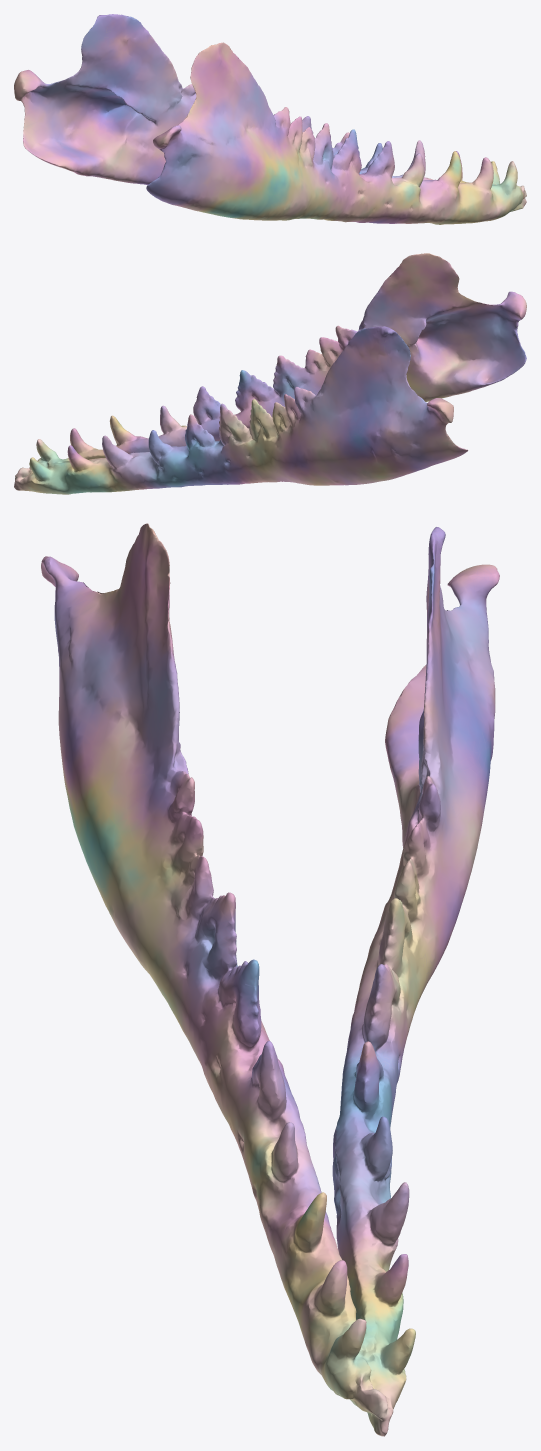
File: mandible.glb
The picture shows the model from 3 angles, top to bottom: view 1: azimuth 30°, elevation 25°; view 2: azimuth 150°, elevation 25°; view 3: azimuth 270°, elevation 25°; orthographic projection. The views are drawn at different scales.
Bounding box in the file's own units: 0.0982 × 0.0569 × 0.042.
Materials: 1 (1 with a texture image).
